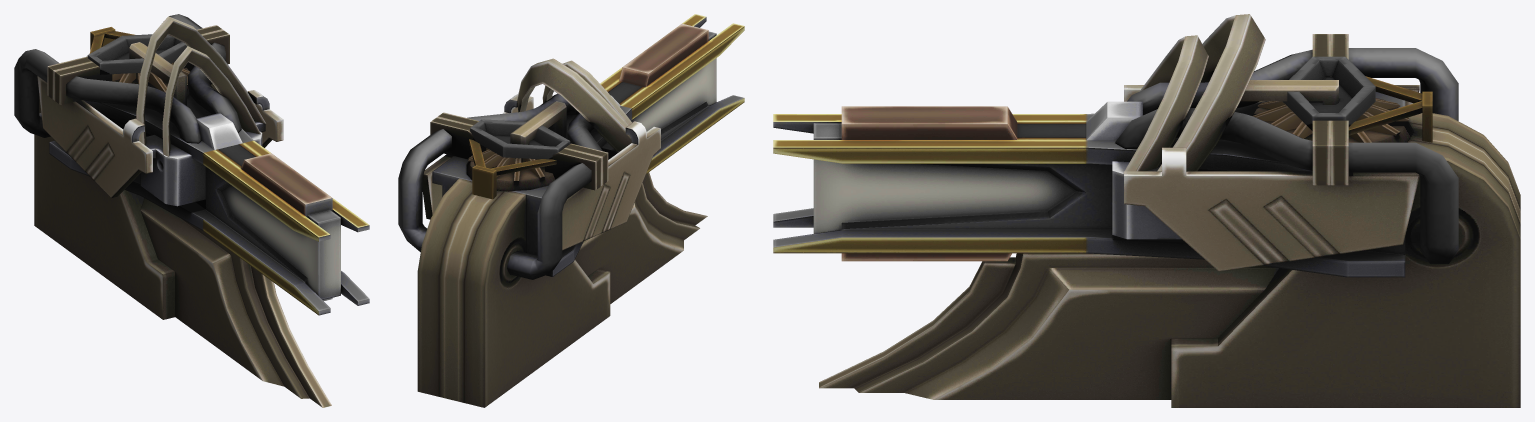
Rendered from trap_160_lrlgun.fbx.
3 renders of one model, left to right at view 1: azimuth 30°, elevation 25°; view 2: azimuth 150°, elevation 25°; view 3: azimuth 270°, elevation 25°, orthographic. The views are drawn at different scales.
Visible parts, largest first — view 1: trap_160_lrlgun; view 2: trap_160_lrlgun; view 3: trap_160_lrlgun.
Boxes of the visible parts, bbox=[...] form: trap_160_lrlgun: bbox=[14, 14, 369, 407]; trap_160_lrlgun: bbox=[398, 14, 744, 407]; trap_160_lrlgun: bbox=[773, 14, 1520, 407].
Bounding box in the file's own units: 0.6235 × 0.9648 × 1.76.
1 material, 1 textured.
